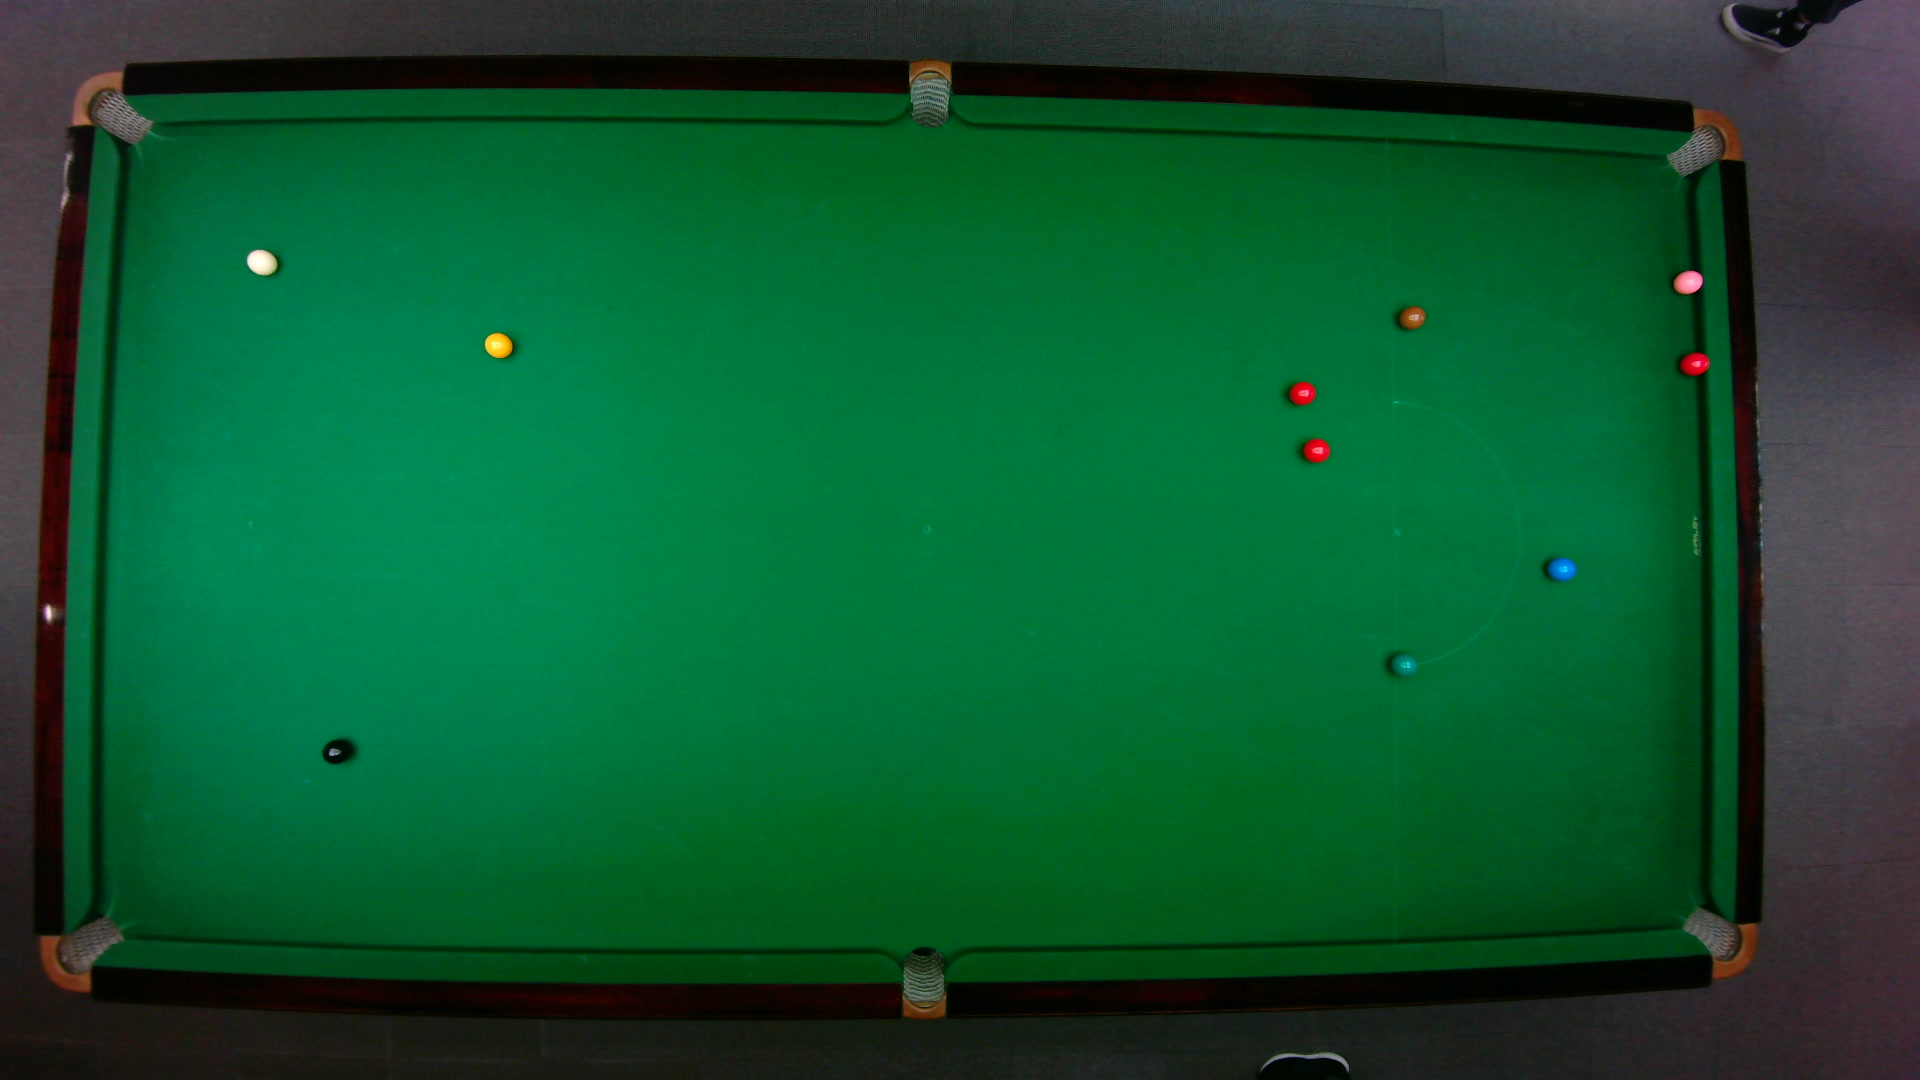bag: (37, 914, 125, 992), (69, 69, 153, 145), (1679, 905, 1758, 978), (1663, 107, 1741, 177), (901, 944, 944, 1021), (909, 57, 949, 128)
black: (320, 736, 352, 765)
blue: (1545, 556, 1576, 582)
brown: (1396, 305, 1427, 328)
green: (1389, 650, 1418, 676)
pink: (1669, 268, 1704, 295)
red: (1677, 349, 1712, 376), (1300, 436, 1332, 463), (1286, 378, 1317, 405)
white: (244, 247, 278, 277)
yellow: (483, 328, 513, 359)
zone: (1390, 398, 1520, 666)
